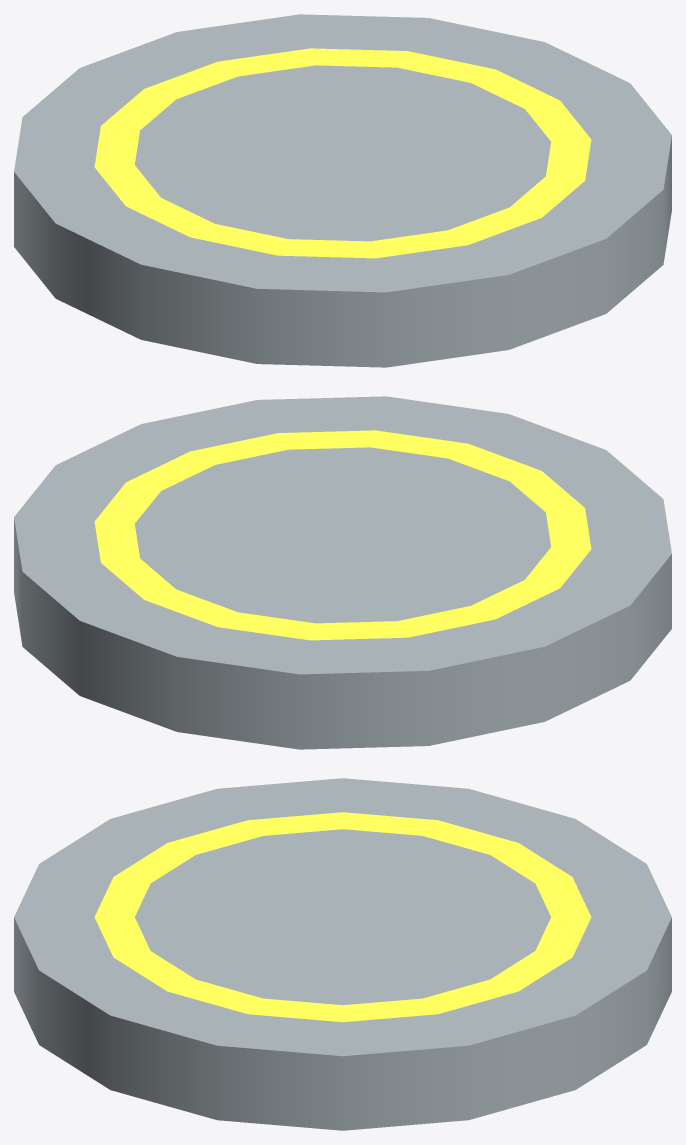
The model's file is SM_PlatformCylinder_v0.fbx.
3 views of the same model, one above another, from view 1: azimuth 30°, elevation 25°; view 2: azimuth 150°, elevation 25°; view 3: azimuth 270°, elevation 25° (orthographic).
Parts seen in each view (by area): view 1: SM_PlatformCylinder_v0; view 2: SM_PlatformCylinder_v0; view 3: SM_PlatformCylinder_v0.
Boxes of the visible parts, x1=… form: SM_PlatformCylinder_v0: x1=14, y1=14, x2=671, y2=367; SM_PlatformCylinder_v0: x1=14, y1=396, x2=671, y2=749; SM_PlatformCylinder_v0: x1=14, y1=778, x2=671, y2=1130.
Size of the model in its own units: 1 by 0.125 by 1.
